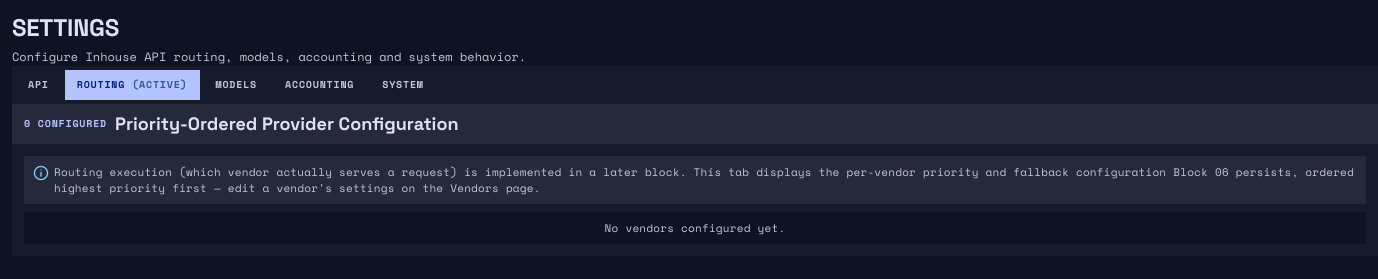
Scenario: Settings — Models tab › shows an empty state when there are no models
This screenshot has width=1378, height=279.
Click the button "Models": point(236, 85) [204, 70, 269, 100]
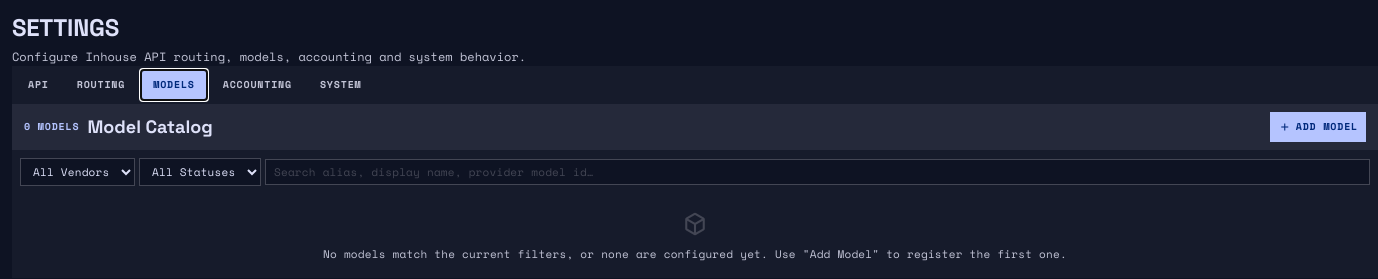
Expected: the text "No models match the current filters" is shown, [323, 246, 1067, 262]
